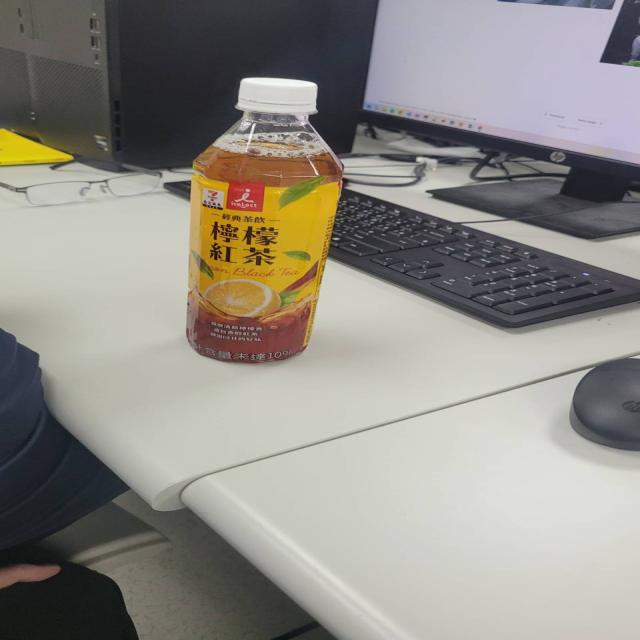PET bottle: (176, 64, 364, 378)
